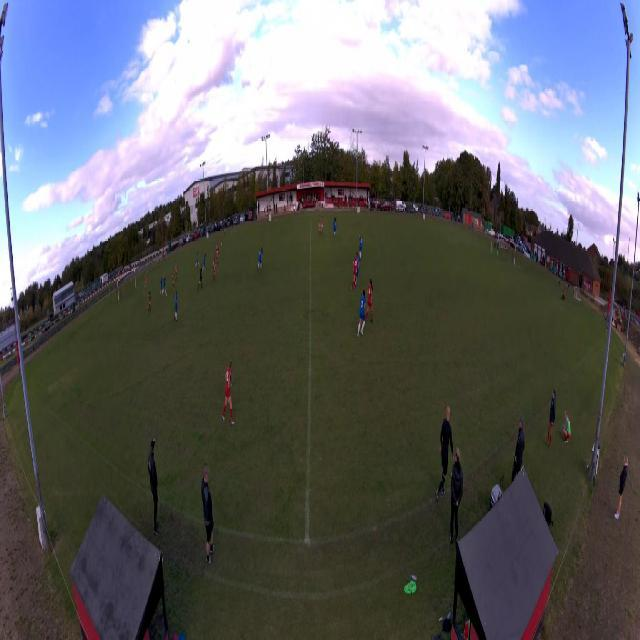ball: (221, 242, 222, 246)
player: (221, 358, 235, 427), (357, 289, 367, 338), (365, 278, 374, 324), (350, 255, 359, 292), (355, 251, 361, 288), (257, 246, 264, 273), (174, 289, 179, 323), (358, 233, 363, 261), (198, 265, 203, 292), (162, 275, 168, 297), (202, 253, 207, 274), (333, 217, 338, 238), (171, 266, 175, 292), (148, 291, 152, 316), (212, 257, 216, 281), (195, 250, 200, 269), (318, 215, 322, 237), (160, 275, 164, 296), (320, 216, 324, 237), (216, 247, 220, 267), (144, 273, 148, 290), (215, 240, 219, 257), (175, 261, 178, 282), (490, 241, 493, 259)
